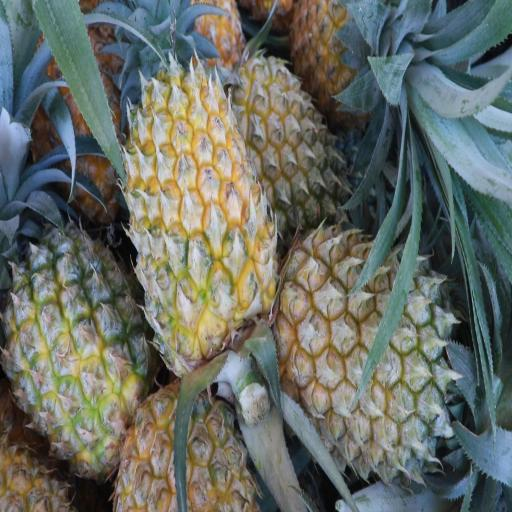------------------------------: (111, 370, 248, 512)
Pineapple - v8 v1: (122, 70, 271, 366), (6, 226, 142, 470), (290, 0, 388, 117)
